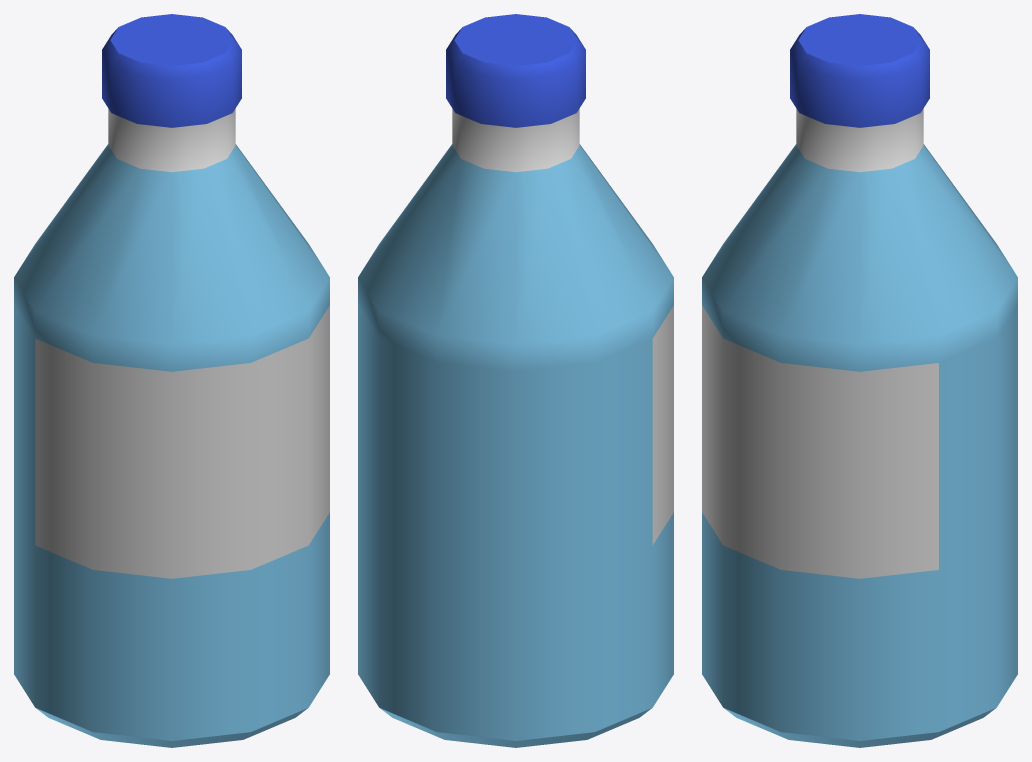
File: water.fbx
3 views of the same model, side by side, from view 1: azimuth 30°, elevation 25°; view 2: azimuth 150°, elevation 25°; view 3: azimuth 270°, elevation 25° (orthographic).
Parts seen in each view (by area): view 1: Cylinder.001; view 2: Cylinder.001; view 3: Cylinder.001.
Part boxes in pixels (bbox=[...]): Cylinder.001: bbox=[14, 14, 329, 747]; Cylinder.001: bbox=[358, 14, 673, 747]; Cylinder.001: bbox=[702, 14, 1017, 747].
Size of the model in its own units: 0.3091 by 0.6991 by 0.3091.
